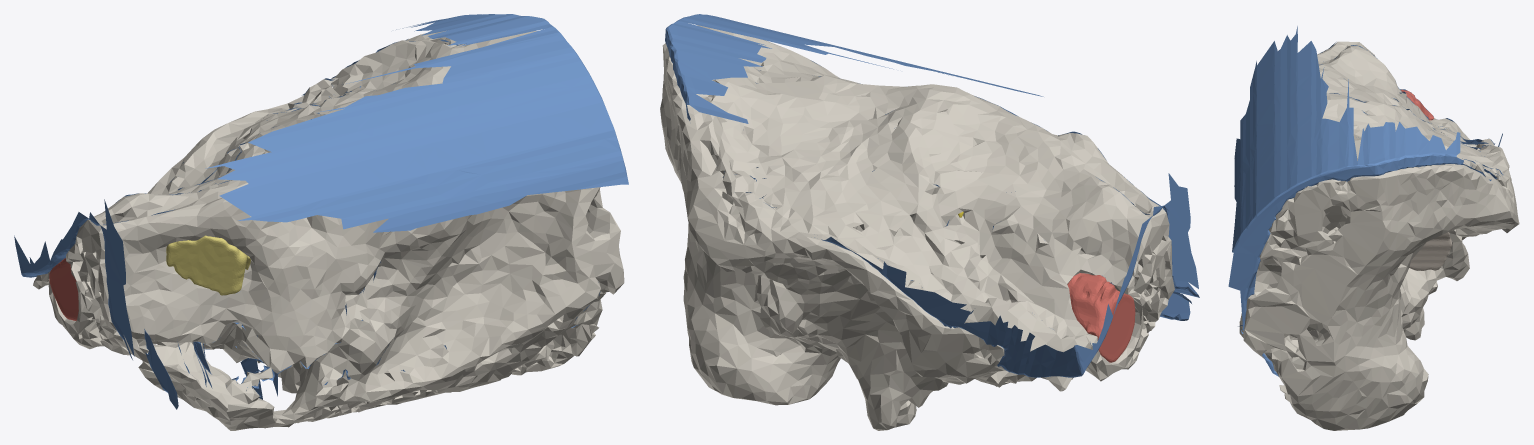
The model's file is openear_temporal.glb.
The picture shows the model from 3 angles, left to right: view 1: azimuth 30°, elevation 25°; view 2: azimuth 150°, elevation 25°; view 3: azimuth 270°, elevation 25°; orthographic projection. The views are drawn at different scales.
Parts seen in each view (by area): view 1: Right temporal bone and mastoid (OpenEar), Sigmoid sinus and posterior/middle fossa dura, Cochleovestibular nerve (CN VIII), Petrous internal carotid artery; view 2: Right temporal bone and mastoid (OpenEar), Sigmoid sinus and posterior/middle fossa dura, Petrous internal carotid artery; view 3: Right temporal bone and mastoid (OpenEar), Sigmoid sinus and posterior/middle fossa dura, External auditory canal wall.
Boxes of the visible parts, x1,y1,x2,y2 form: Right temporal bone and mastoid (OpenEar): [33, 30, 624, 430]; Sigmoid sinus and posterior/middle fossa dura: [14, 14, 628, 409]; Cochleovestibular nerve (CN VIII): [166, 235, 250, 295]; Petrous internal carotid artery: [49, 258, 78, 320]; Right temporal bone and mastoid (OpenEar): [660, 25, 1174, 430]; Sigmoid sinus and posterior/middle fossa dura: [665, 14, 1199, 377]; Petrous internal carotid artery: [1067, 273, 1135, 362]; Right temporal bone and mastoid (OpenEar): [1239, 41, 1519, 430]; Sigmoid sinus and posterior/middle fossa dura: [1228, 26, 1503, 376]; External auditory canal wall: [1409, 232, 1452, 270].
Bounding box in the file's own units: 56.27 × 37.55 × 35.57.
